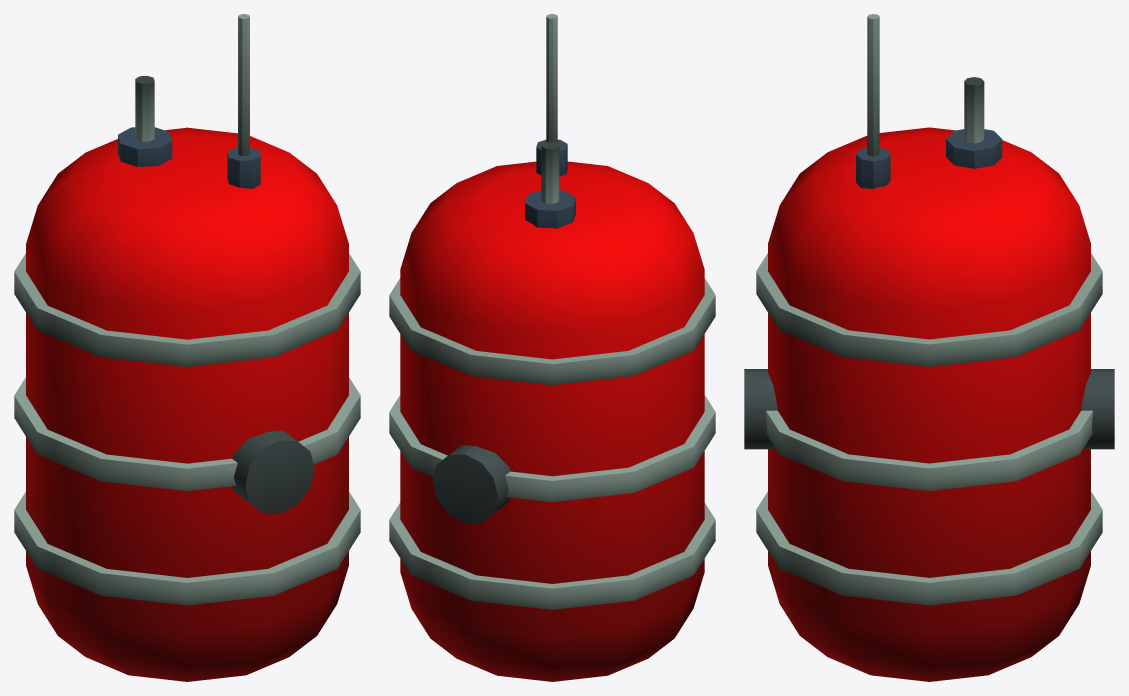
The model's file is tank.fbx.
The picture shows the model from 3 angles, left to right: view 1: azimuth 30°, elevation 25°; view 2: azimuth 150°, elevation 25°; view 3: azimuth 270°, elevation 25°; orthographic projection. The views are drawn at different scales.
Visible parts, largest first — view 1: tank; view 2: tank; view 3: tank.
Part boxes in pixels (bbox=[...]): tank: bbox=[14, 14, 360, 681]; tank: bbox=[389, 14, 715, 681]; tank: bbox=[744, 14, 1114, 681].
Bounding box in the file's own units: 127 × 258 × 136.
